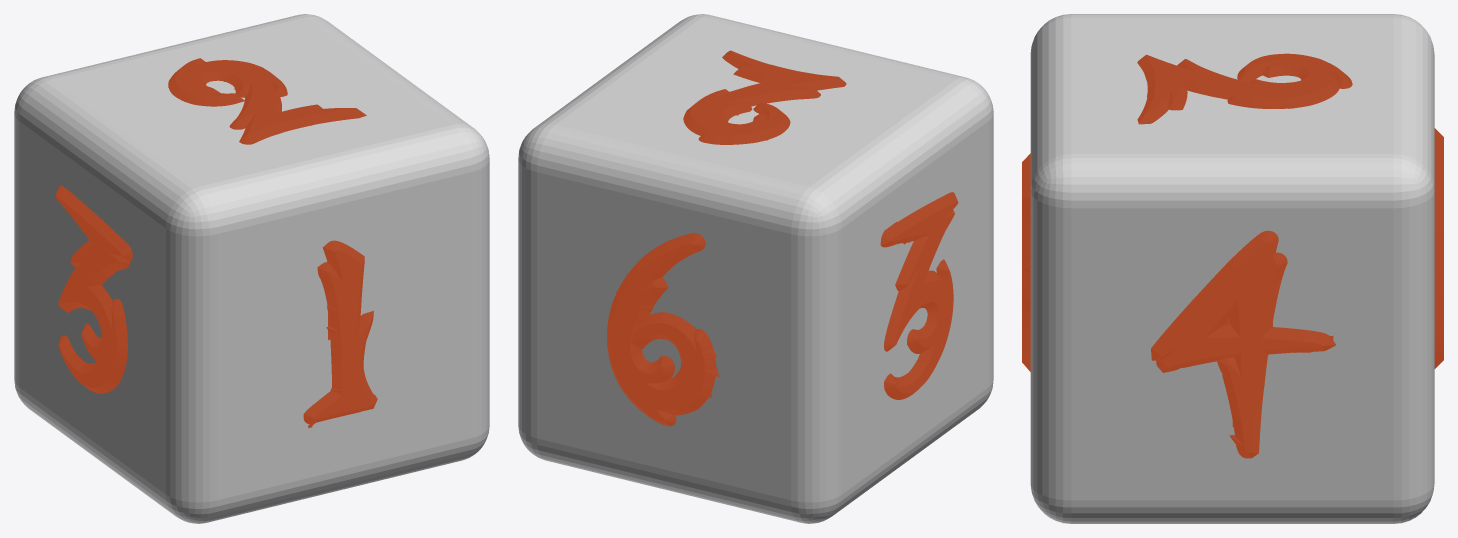
3 renders of one model, left to right at view 1: azimuth 30°, elevation 25°; view 2: azimuth 150°, elevation 25°; view 3: azimuth 270°, elevation 25°, orthographic. The views are drawn at different scales.
Parts seen in each view (by area): view 1: d6; view 2: d6; view 3: d6.
Part boxes in pixels (x1=…): d6: x1=14, y1=14, x2=489, y2=523; d6: x1=518, y1=14, x2=993, y2=523; d6: x1=1022, y1=14, x2=1443, y2=523.
Size of the model in its own units: 1.45 by 1.44 by 1.44.
